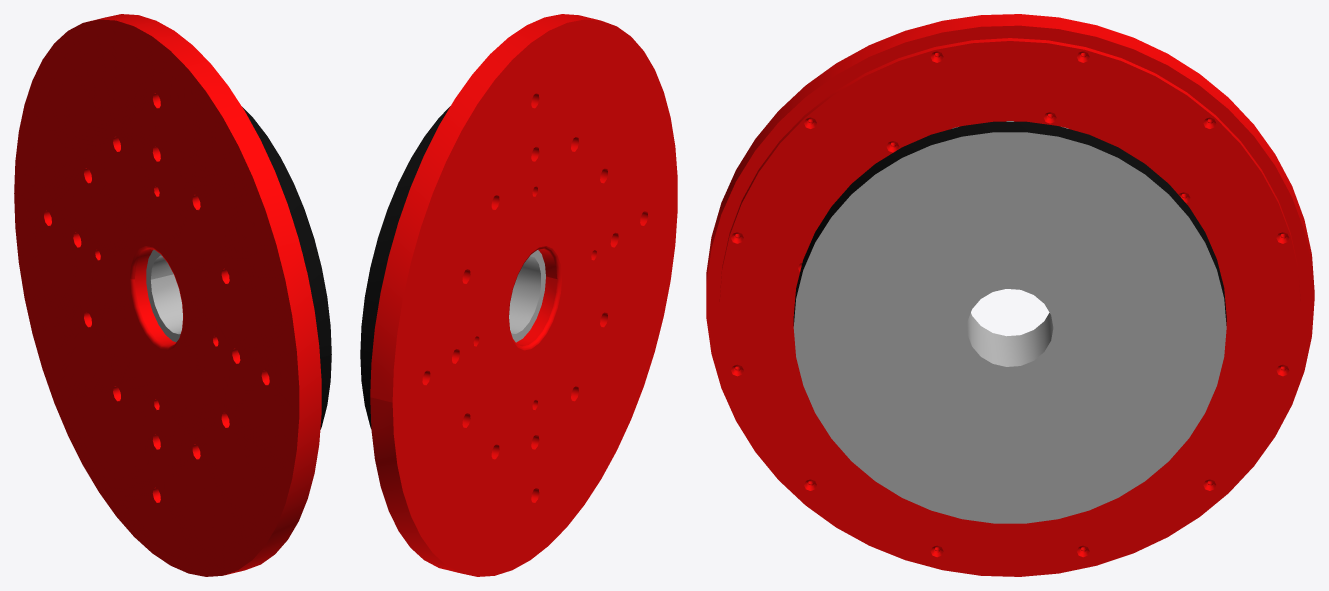
File: Idler_Faceplate_P1.dae
3 views of the same model, side by side, from view 1: azimuth 30°, elevation 25°; view 2: azimuth 150°, elevation 25°; view 3: azimuth 270°, elevation 25° (orthographic). The views are drawn at different scales.
Visible parts, largest first — view 1: Node_000002CA53F994C0 (×3); view 2: Node_000002CA53F994C0 (×3); view 3: Node_000002CA53F994C0 (×3).
Part boxes in pixels (x1,y1,x2,y2): Node_000002CA53F994C0 (×3): (14,14,331,576); Node_000002CA53F994C0 (×3): (360,14,677,576); Node_000002CA53F994C0 (×3): (706,14,1314,576).
Bounding box in the file's own units: 0.0722 × 0.4848 × 0.4845.
